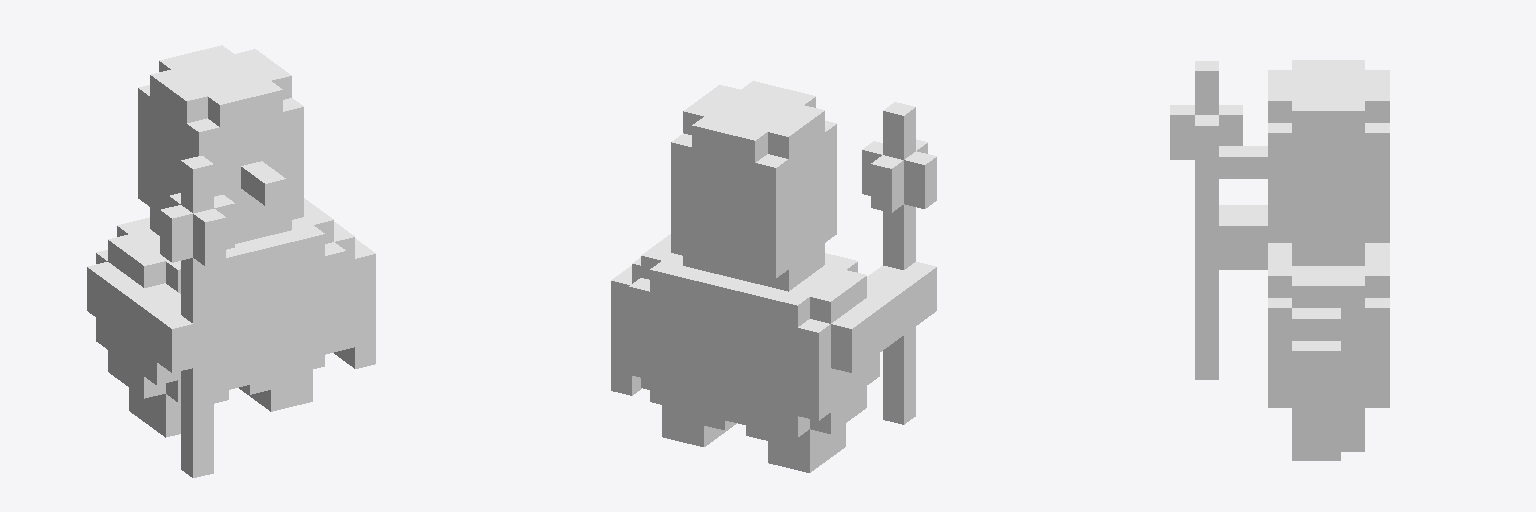
Rendered from StrajGDospex.obj.
3 renders of one model, left to right at view 1: azimuth 30°, elevation 25°; view 2: azimuth 150°, elevation 25°; view 3: azimuth 270°, elevation 25°, orthographic.
Parts seen in each view (by area): view 1: object 1; view 2: object 1; view 3: object 1.
Boxes of the visible parts, <box> form: object 1: <box>87,45,375,477</box>; object 1: <box>611,81,936,472</box>; object 1: <box>1170,60,1389,460</box>.
Size of the model in its own units: 1.2 by 1.5 by 0.9.